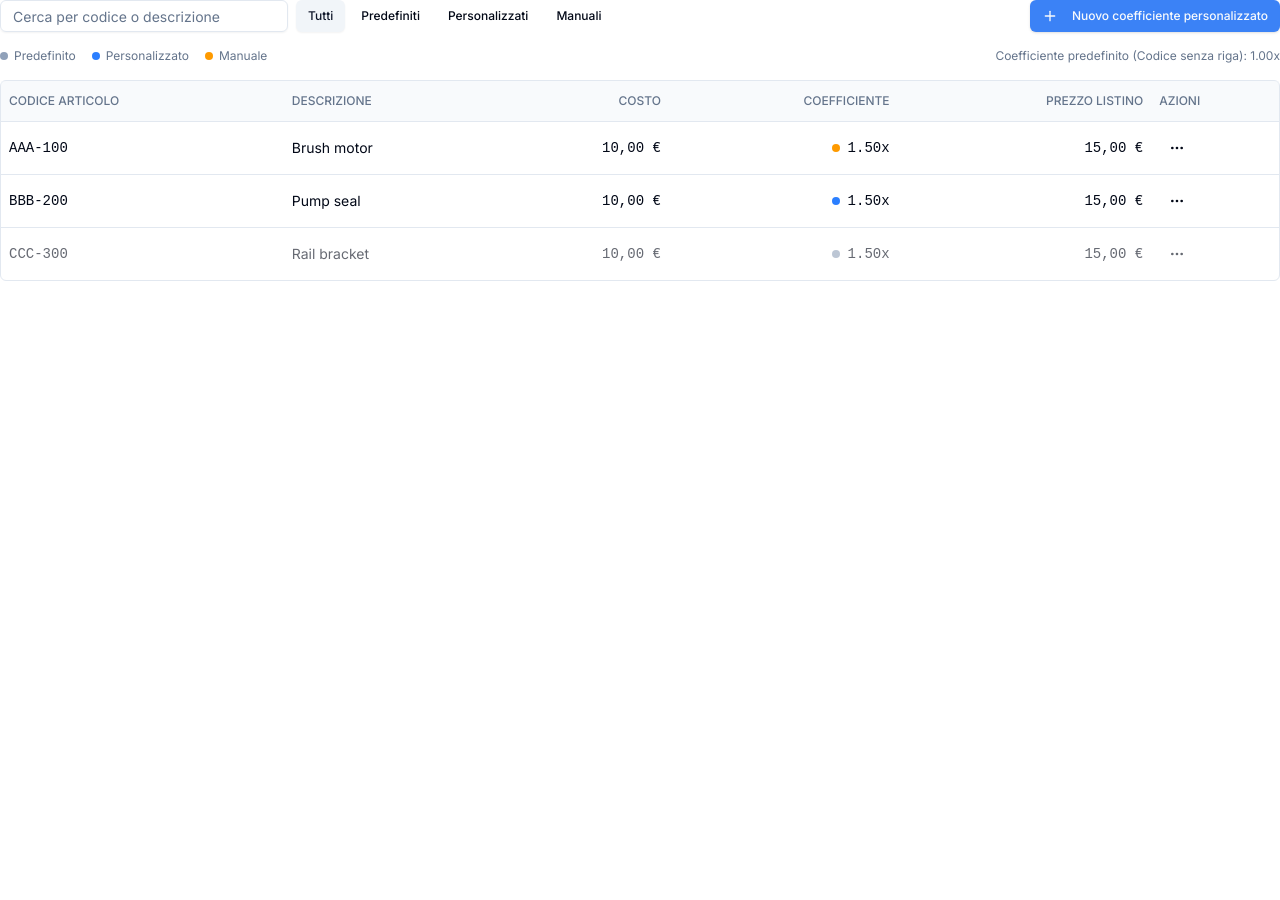
CoefficientsTable — shared row dialogs › opens a single shared edit dialog targeting the selected row
The image size is (1280, 900).
Click the button named "Apri azioni" in the row of "AAA-100" at (1177, 148), box [1159, 130, 1195, 166]
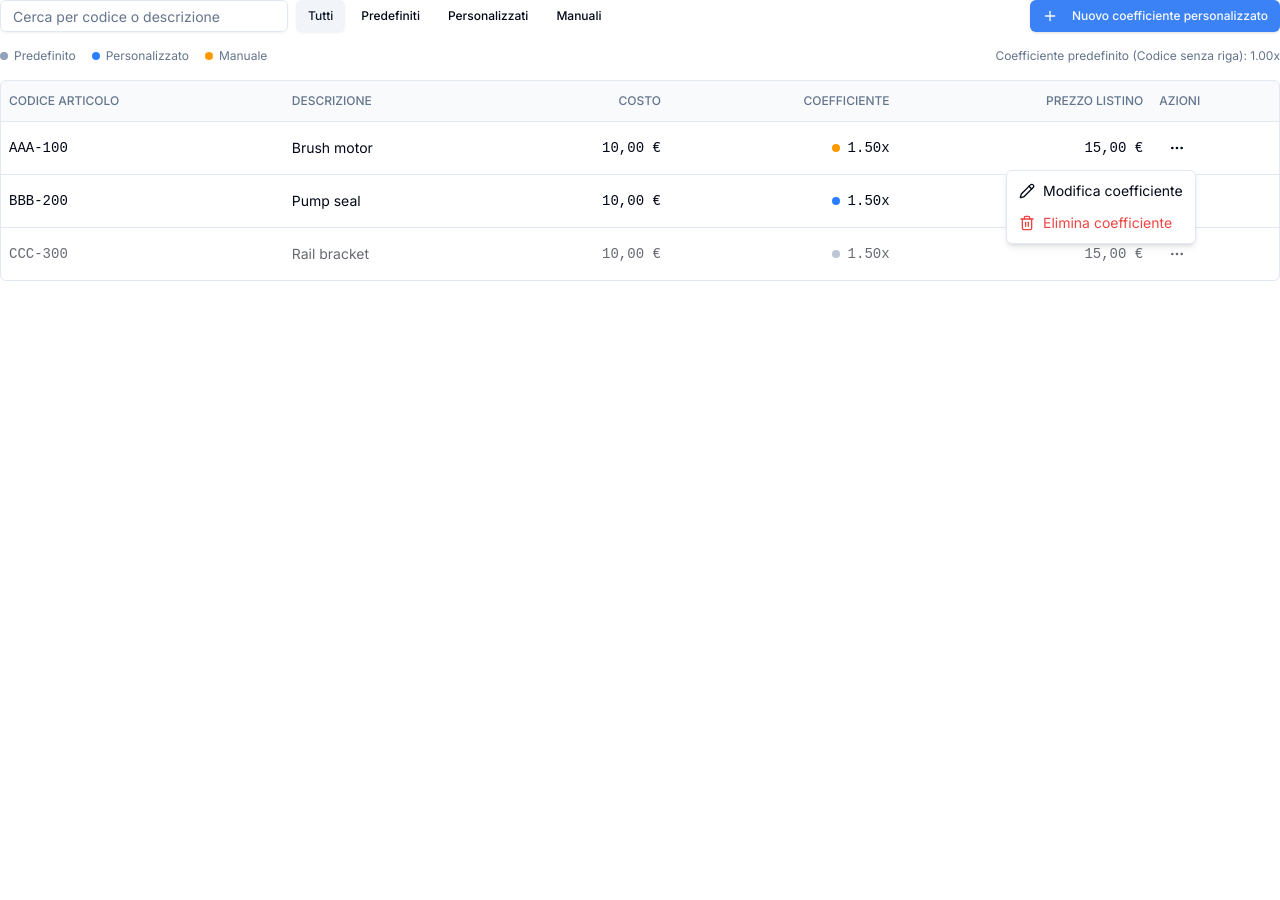
Click the menu item "Modifica coefficiente" at (1101, 190), box [1019, 182, 1183, 199]
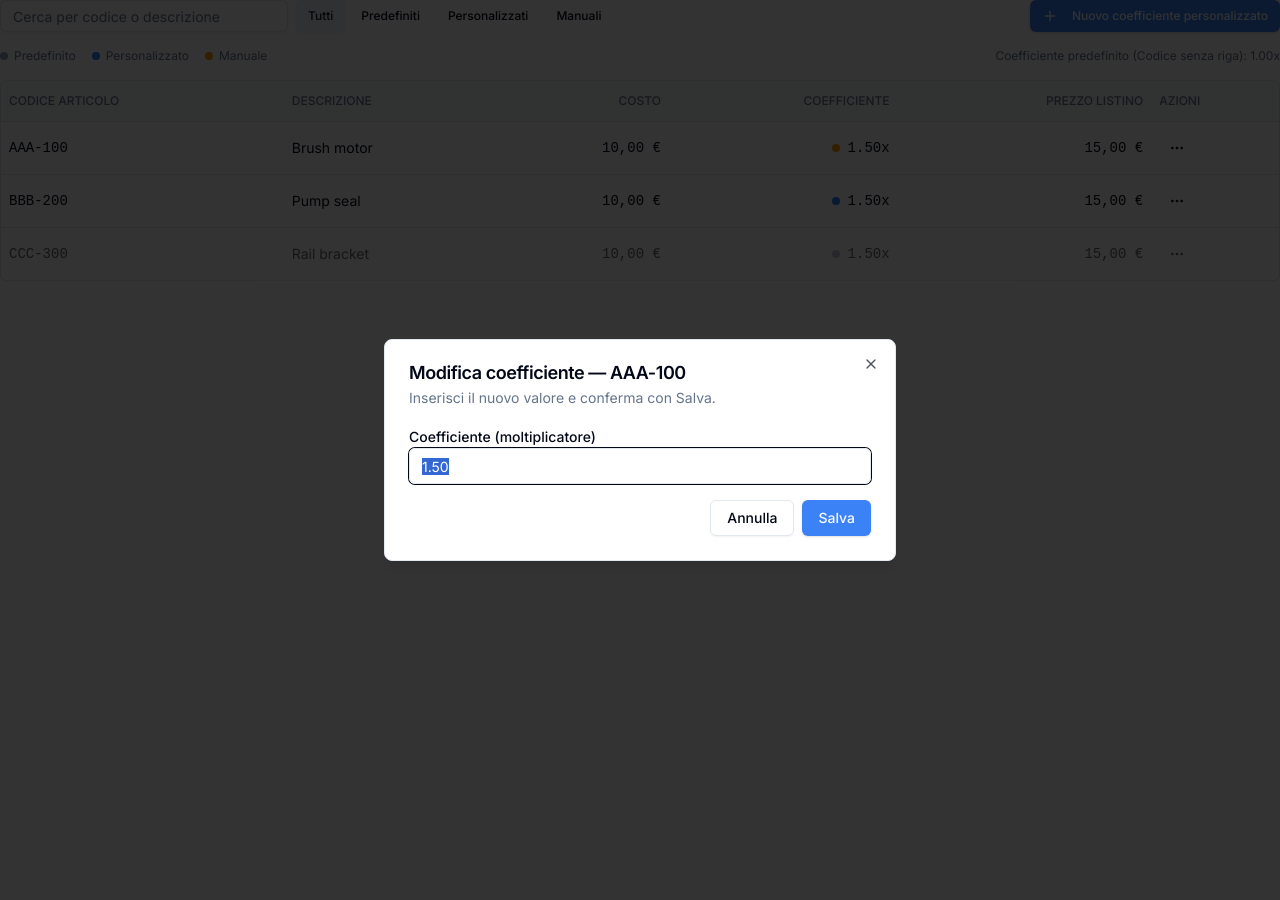
Now the heading "Modifica coefficiente — AAA-100" is shown, box [409, 362, 686, 383]
